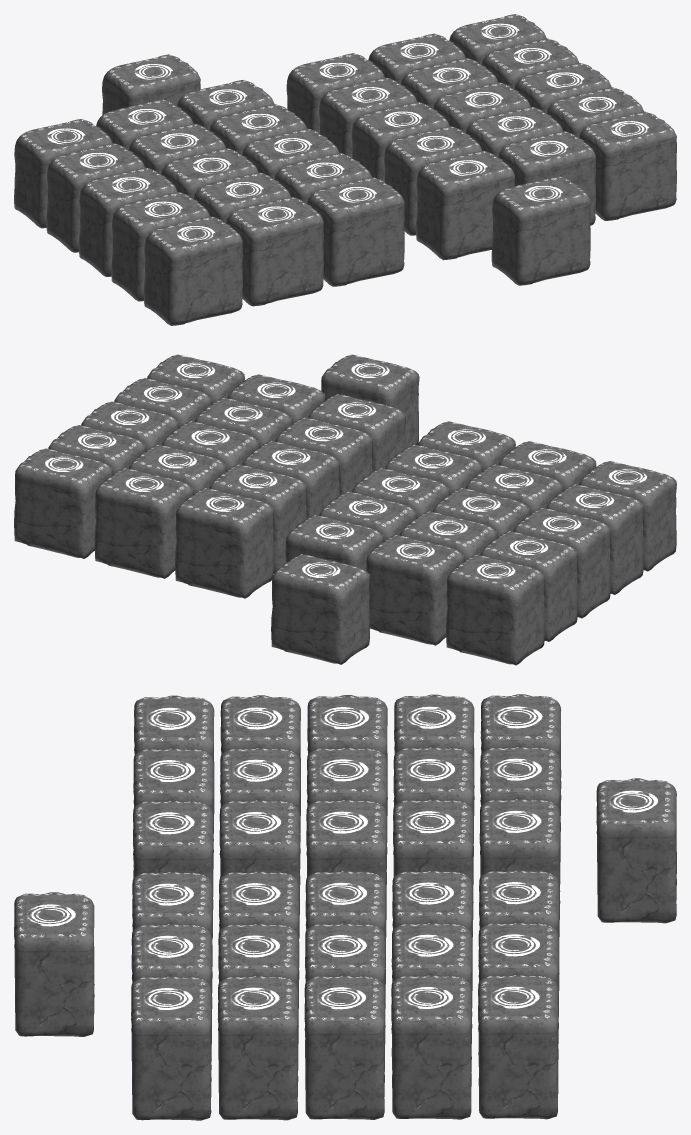
Rendered from DECK.fbx.
3 renders of one model, top to bottom at view 1: azimuth 30°, elevation 25°; view 2: azimuth 150°, elevation 25°; view 3: azimuth 270°, elevation 25°, orthographic. The views are drawn at different scales.
Parts seen in each view (by area): view 1: Deck_Lower.001; view 2: Deck_Lower.001; view 3: Deck_Lower.001.
Part boxes in pixels (box(x1,y1,x2,y2)): Deck_Lower.001: box(14, 14, 676, 325); Deck_Lower.001: box(14, 354, 676, 665); Deck_Lower.001: box(14, 694, 676, 1120).
Size of the model in its own units: 289 by 43.07 by 247.
